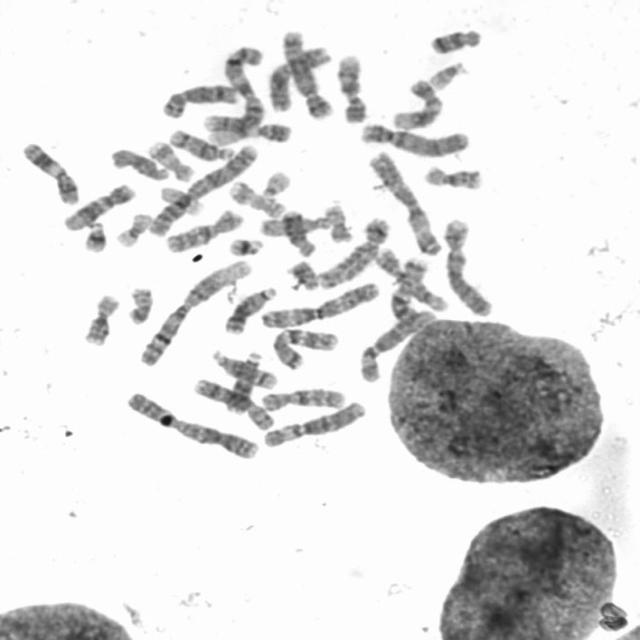A1: (133, 253, 254, 367), (202, 40, 266, 148)
A2: (143, 137, 262, 238), (120, 386, 262, 460)
A3: (361, 145, 444, 257), (253, 275, 382, 329)
B4: (438, 212, 497, 318), (353, 116, 472, 159)
B5: (312, 212, 391, 291), (276, 25, 335, 120)
C10: (159, 203, 245, 254), (255, 381, 347, 412)
C11: (370, 243, 452, 314), (15, 136, 81, 206)
C12: (57, 177, 136, 232), (386, 73, 445, 131)
C6: (353, 303, 438, 384), (256, 394, 368, 449)
C7: (266, 322, 342, 372), (384, 253, 433, 328)
C8: (188, 372, 277, 432), (157, 77, 240, 119)
C9: (197, 108, 293, 144), (331, 47, 370, 124)
D13: (218, 280, 278, 336), (220, 346, 266, 414)
D14: (206, 344, 279, 390), (164, 123, 236, 162)
D15: (104, 141, 171, 181), (278, 204, 318, 259)
E16: (77, 287, 122, 347), (418, 159, 486, 191)
E17: (224, 175, 288, 218), (141, 134, 195, 182)
E18: (257, 210, 338, 242), (423, 22, 485, 56)
F19: (110, 206, 154, 249), (154, 180, 206, 216)
F20: (318, 197, 355, 244), (121, 280, 156, 326)
G21: (77, 216, 109, 253), (222, 231, 265, 257)
G22: (422, 55, 470, 90), (255, 164, 293, 200)
X: (262, 41, 334, 114)
Y: (281, 254, 321, 292)
